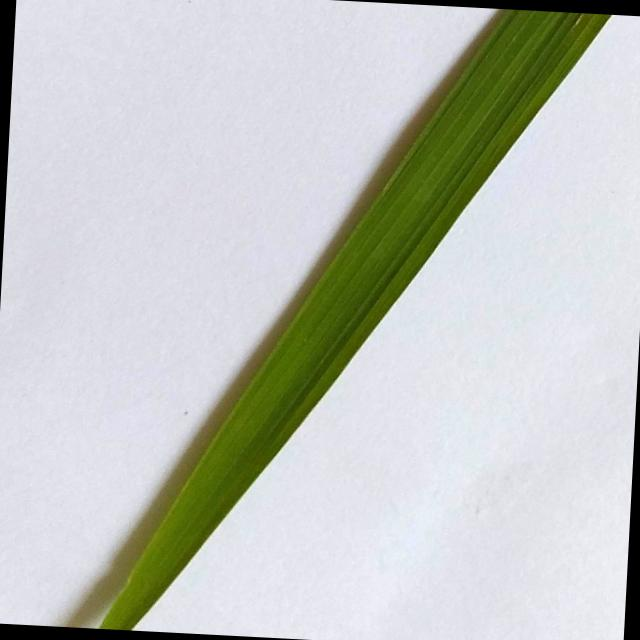Rice_Healthy: (100, 9, 610, 630)
